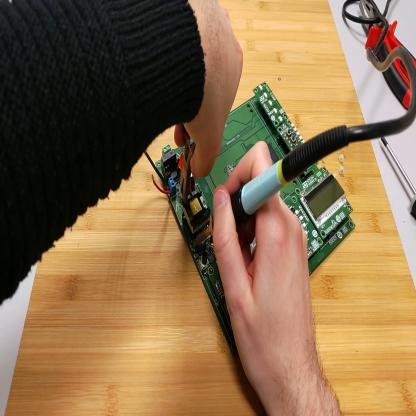hand: (211, 134, 319, 399), (174, 2, 245, 186)
low voltage board: (144, 82, 356, 356)
pliers: (360, 3, 416, 112), (178, 128, 196, 208)
screwdriver-: (382, 137, 416, 221)
welder probe tip: (193, 126, 350, 247)
working area: (4, 3, 415, 414)
